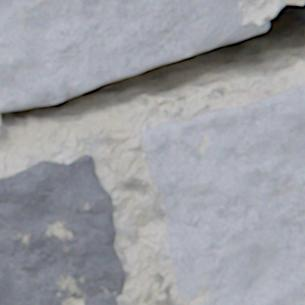brick: (139, 84, 304, 304), (0, 0, 252, 111), (0, 154, 125, 304)
crack: (0, 0, 304, 132)
